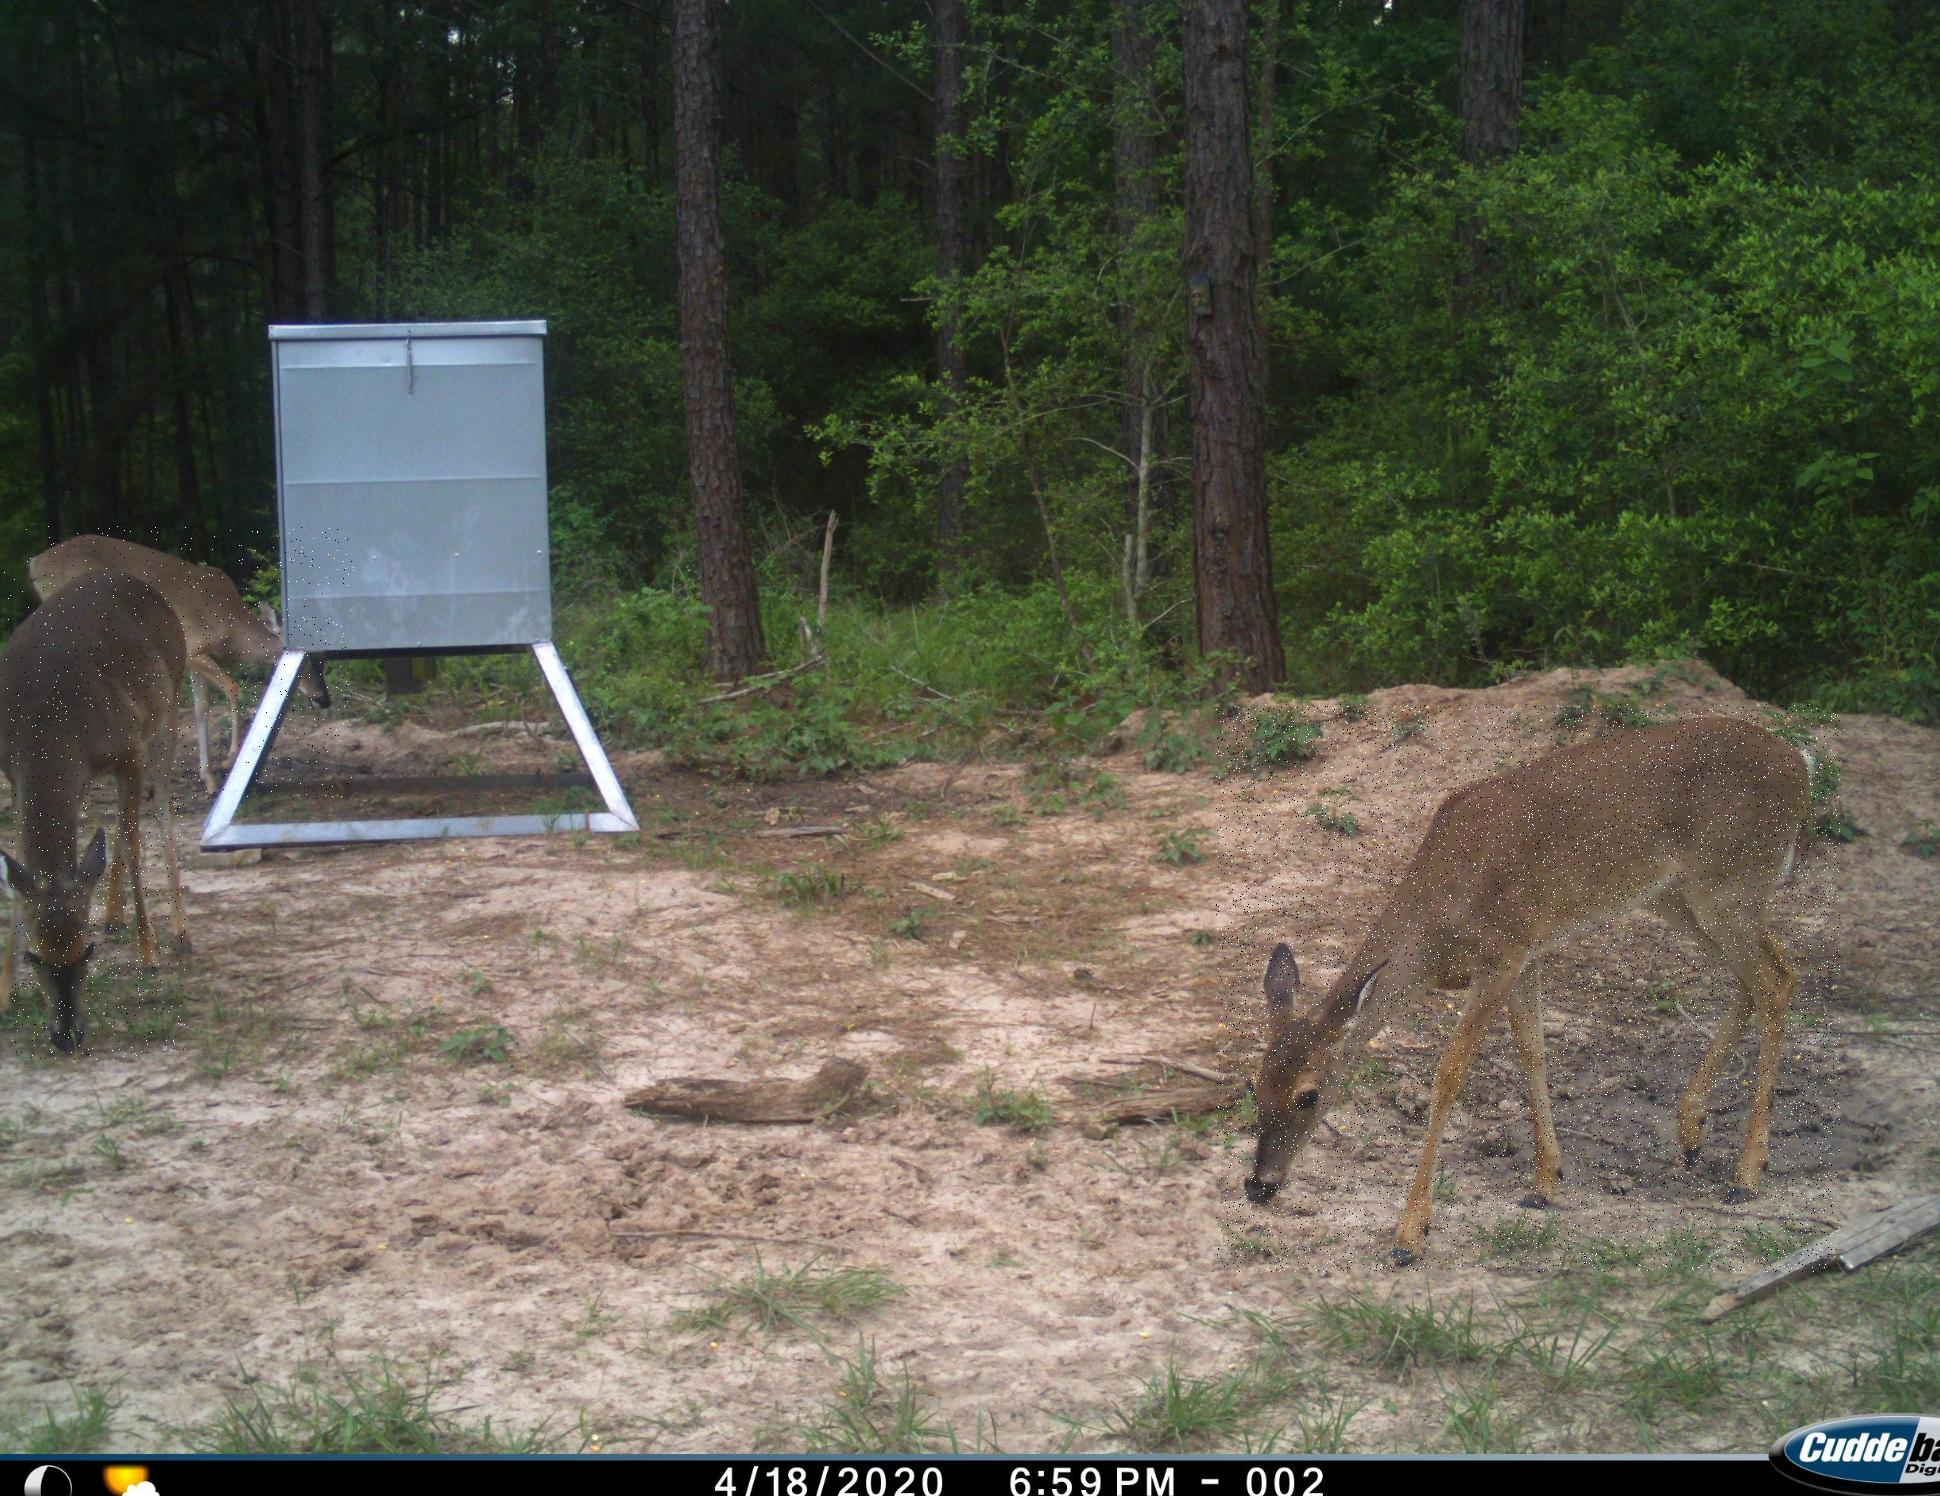Deer: (1216, 704, 1839, 1271), (5, 526, 353, 800), (11, 570, 187, 1061)
